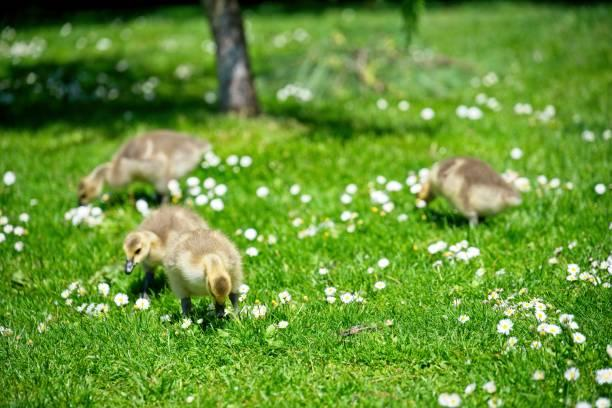Canadian-Goose: (75, 127, 213, 203), (417, 155, 522, 223), (167, 229, 241, 318), (122, 204, 184, 276)
